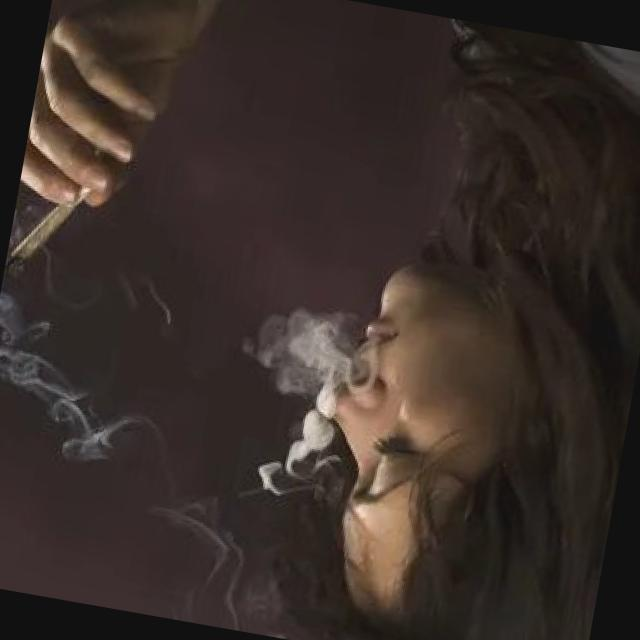smoke: (2, 160, 112, 296)
